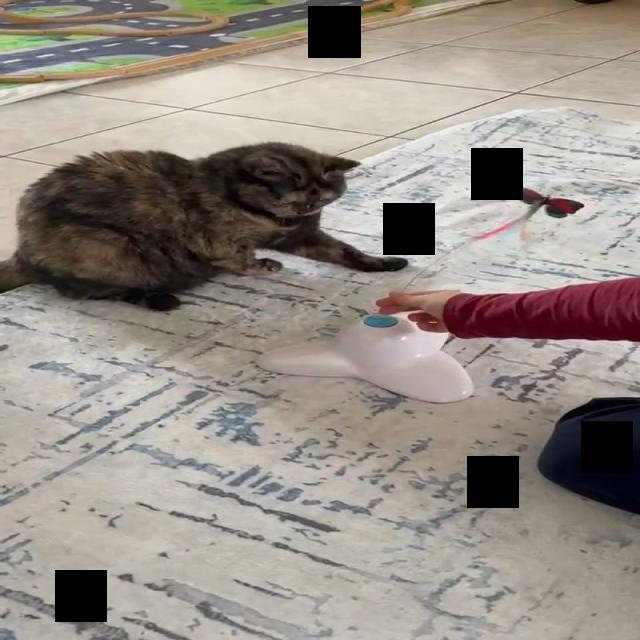authorized: (0, 140, 408, 312)
